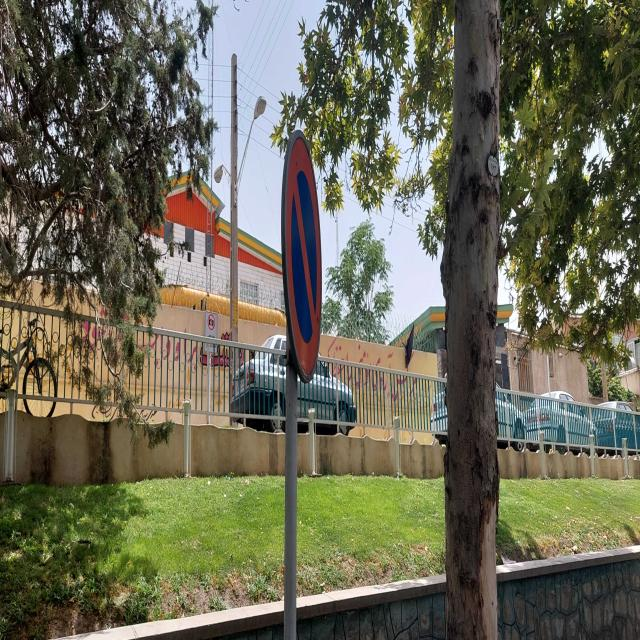forb_stopping: (280, 127, 324, 387)
